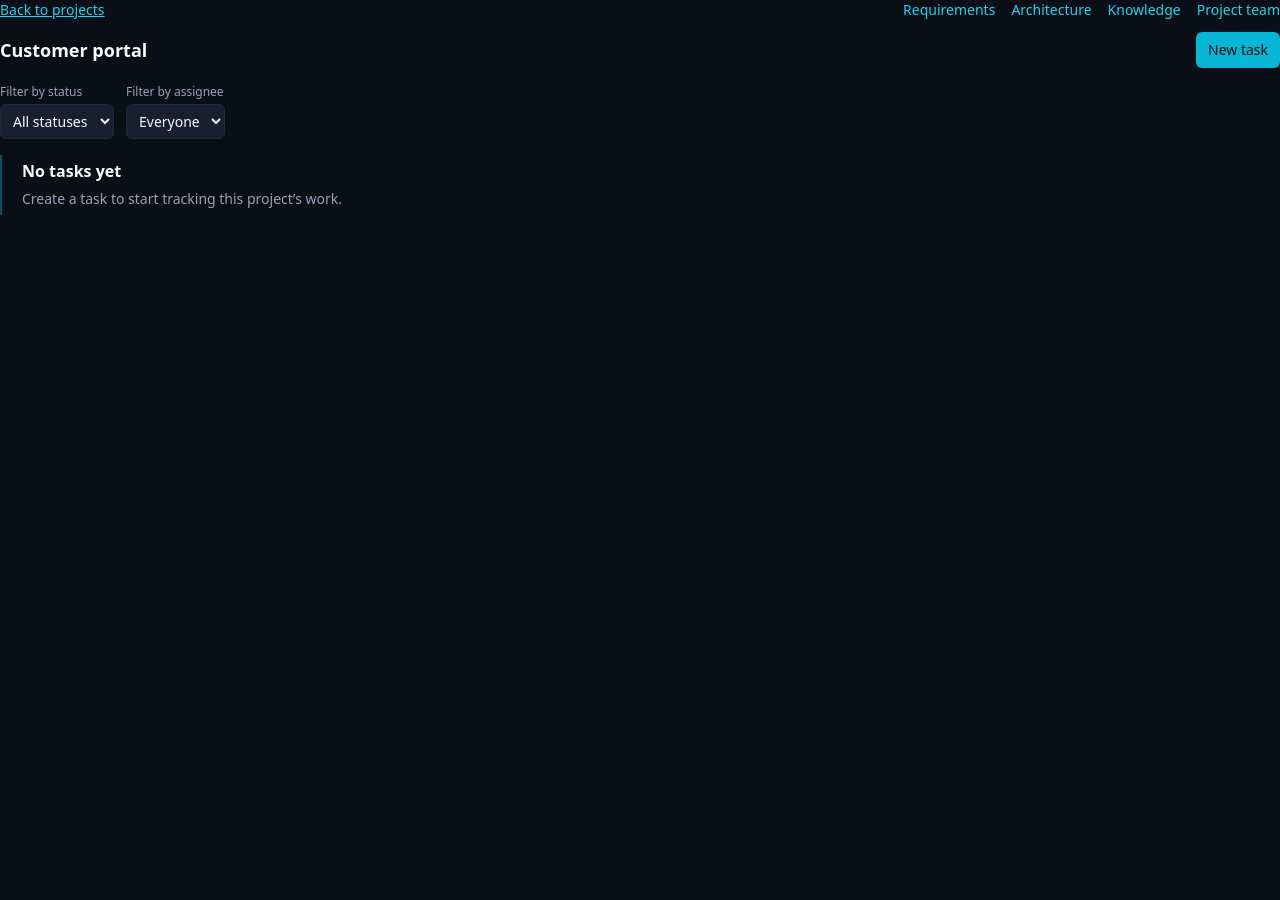
task review flow › requires a responsible role on a new task
Click the button "New task" at (1238, 50), box [1196,32,1279,68]
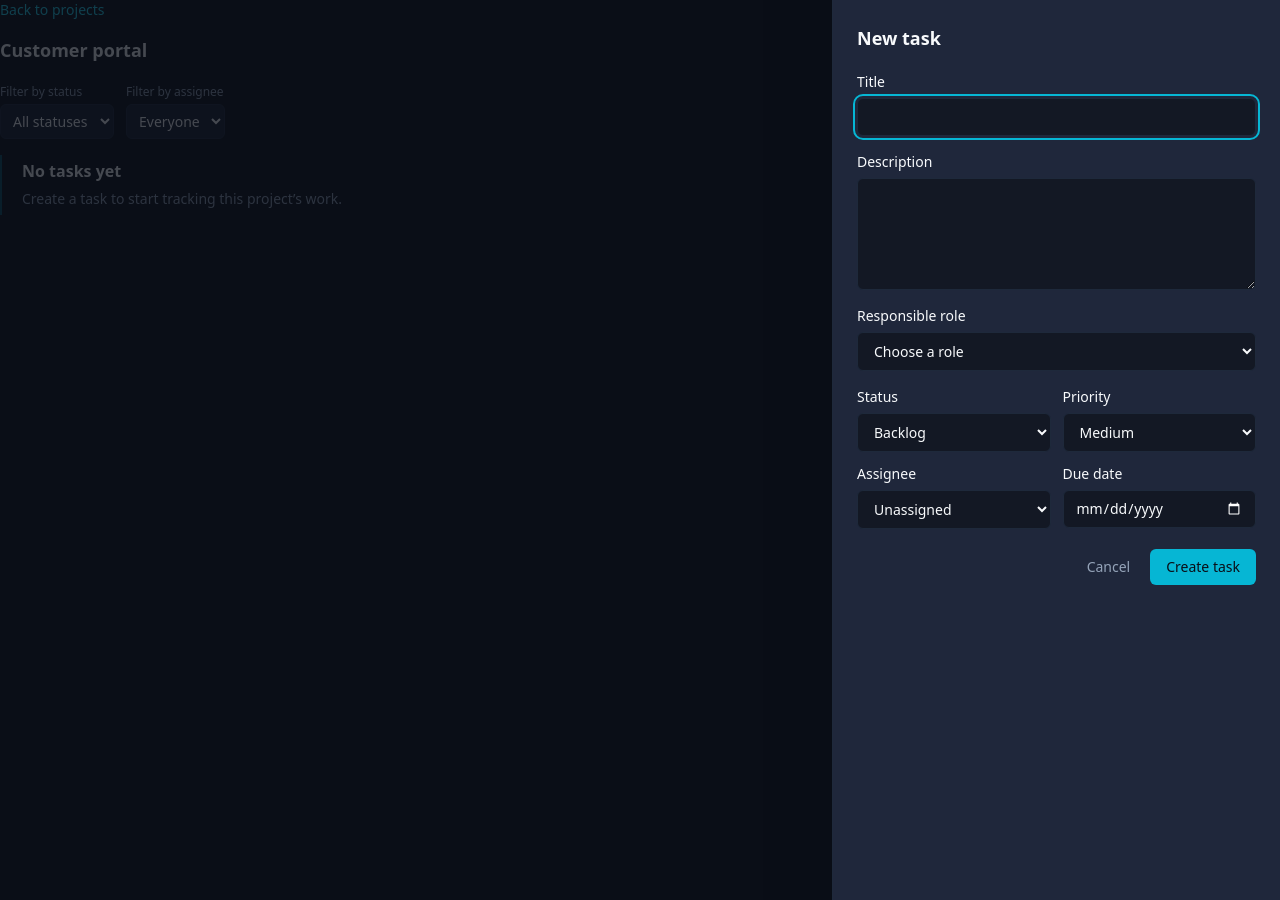
Type "Ship it" into the field labelled "Title" at (1056, 117), box [857,98,1256,136]
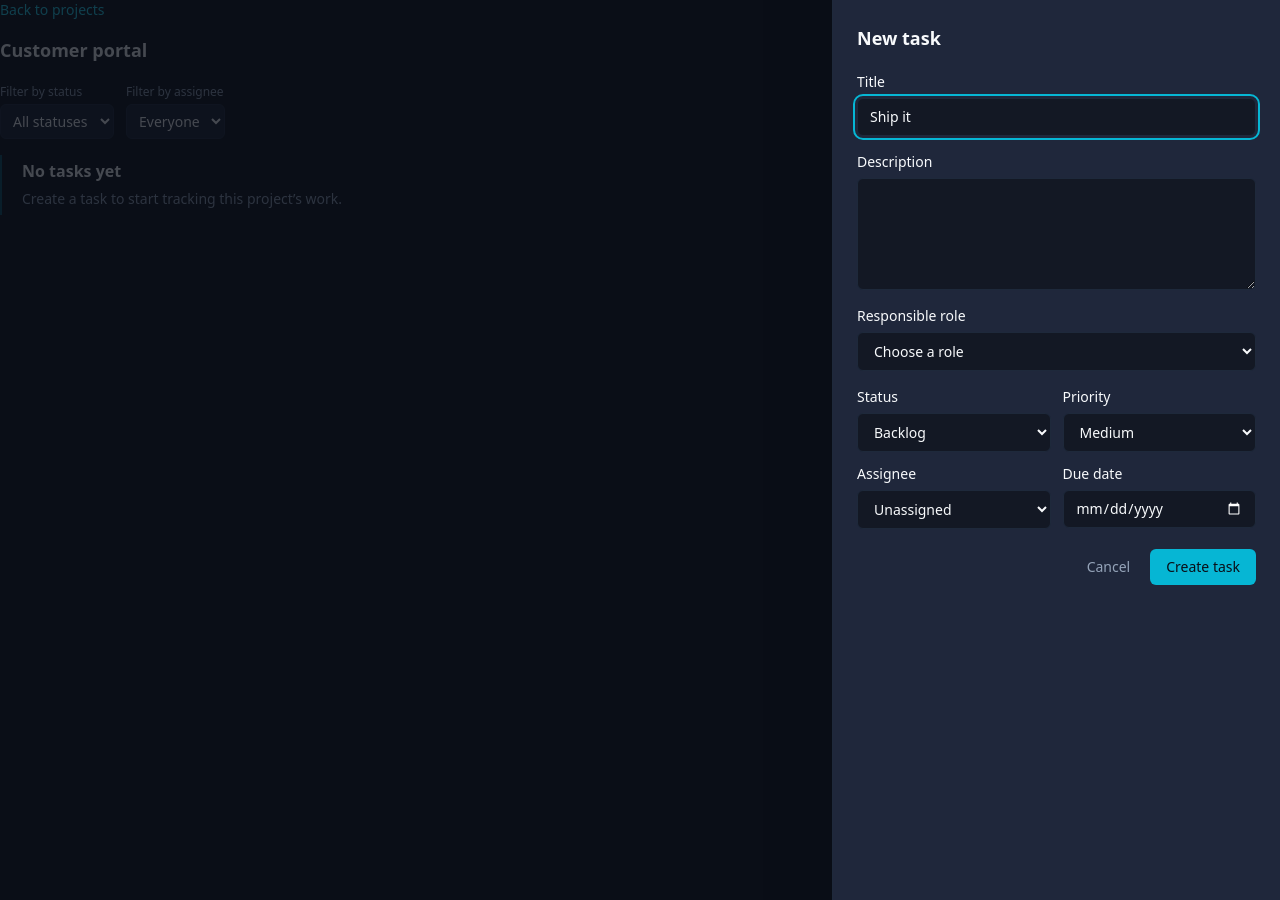
Click the button "Create task" at (1203, 567), box [1150,549,1256,585]
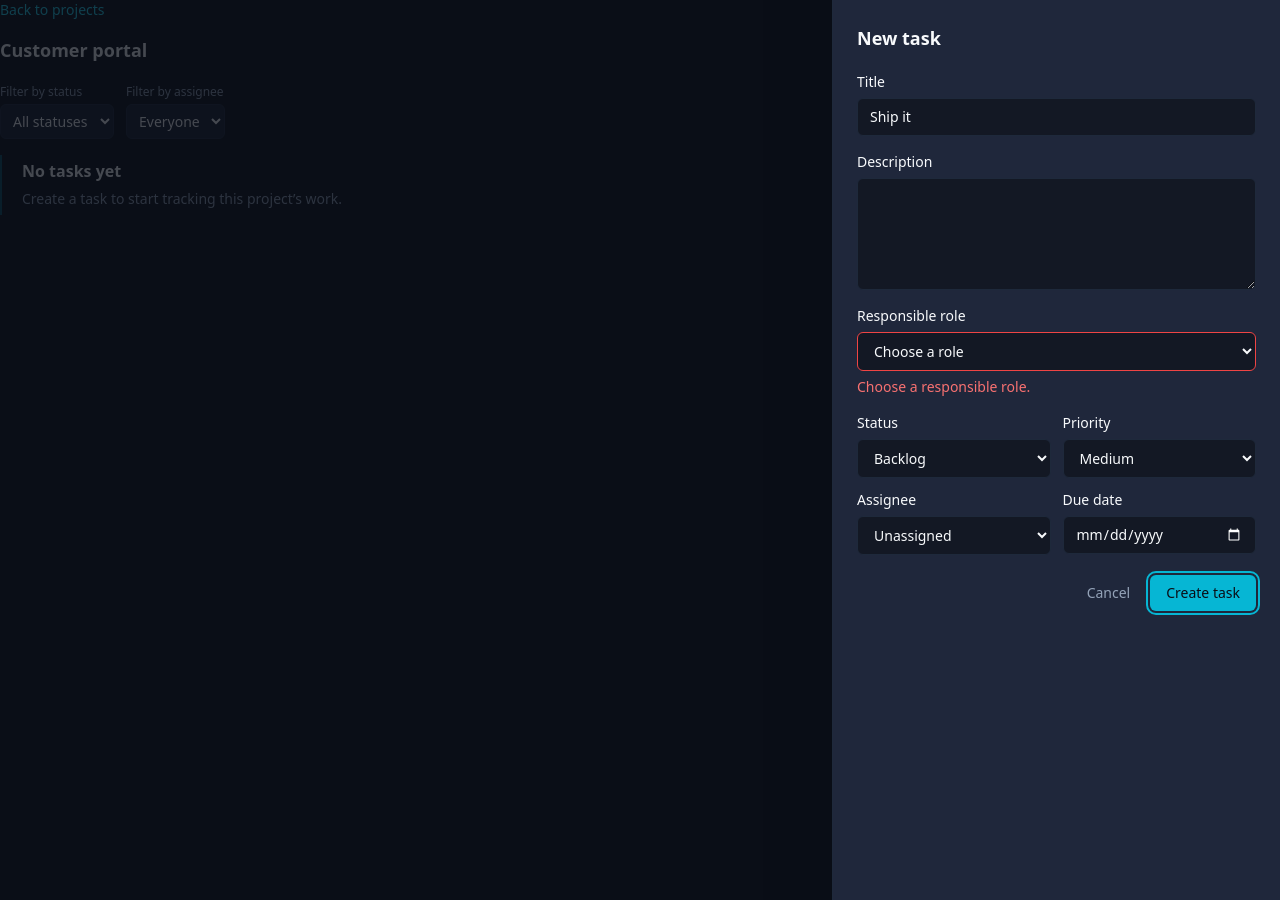
Select "Backend" in the dropdown labelled "Responsible role" at (1056, 352), box [857,332,1256,371]
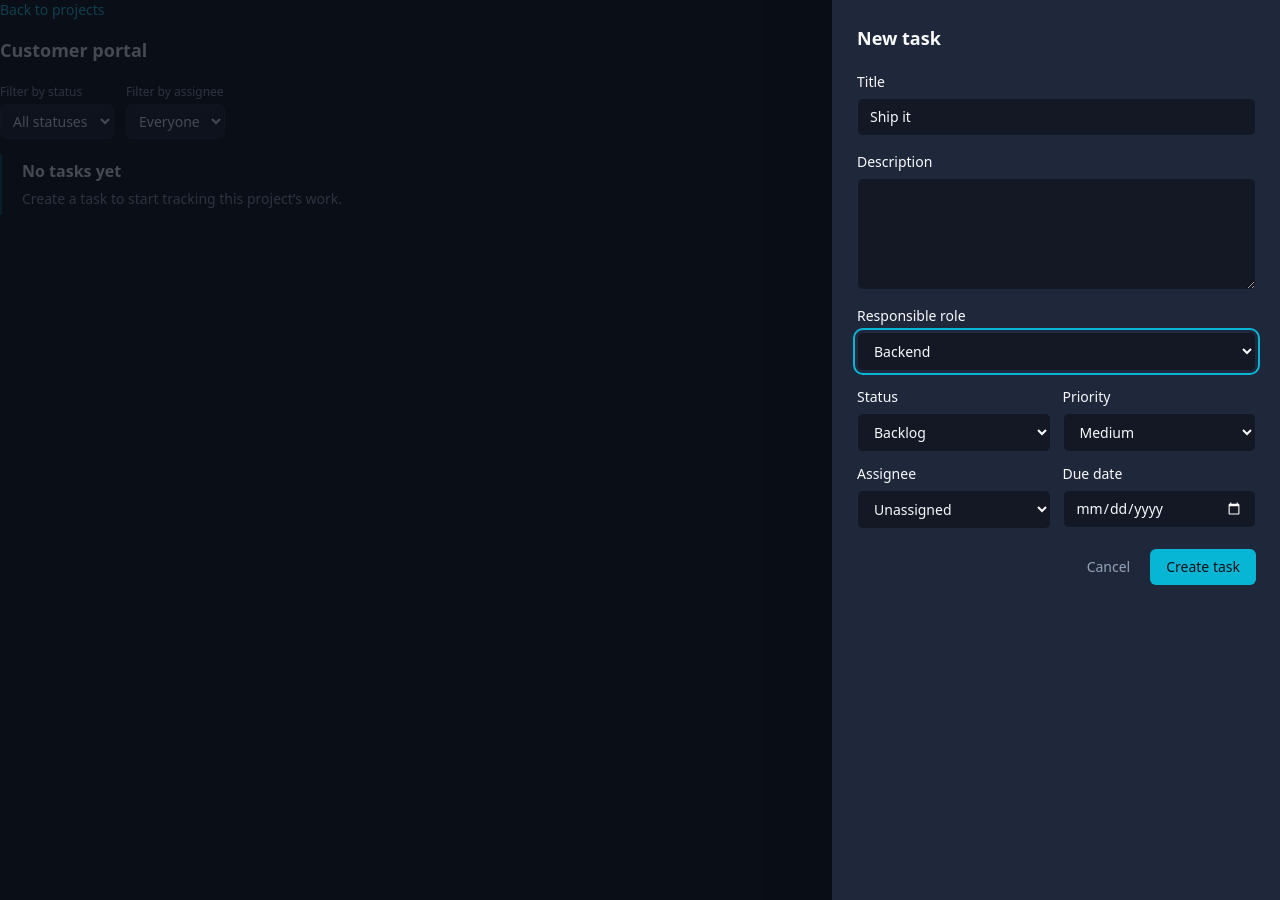
Click the button "Create task" at (1203, 567), box [1150,549,1256,585]
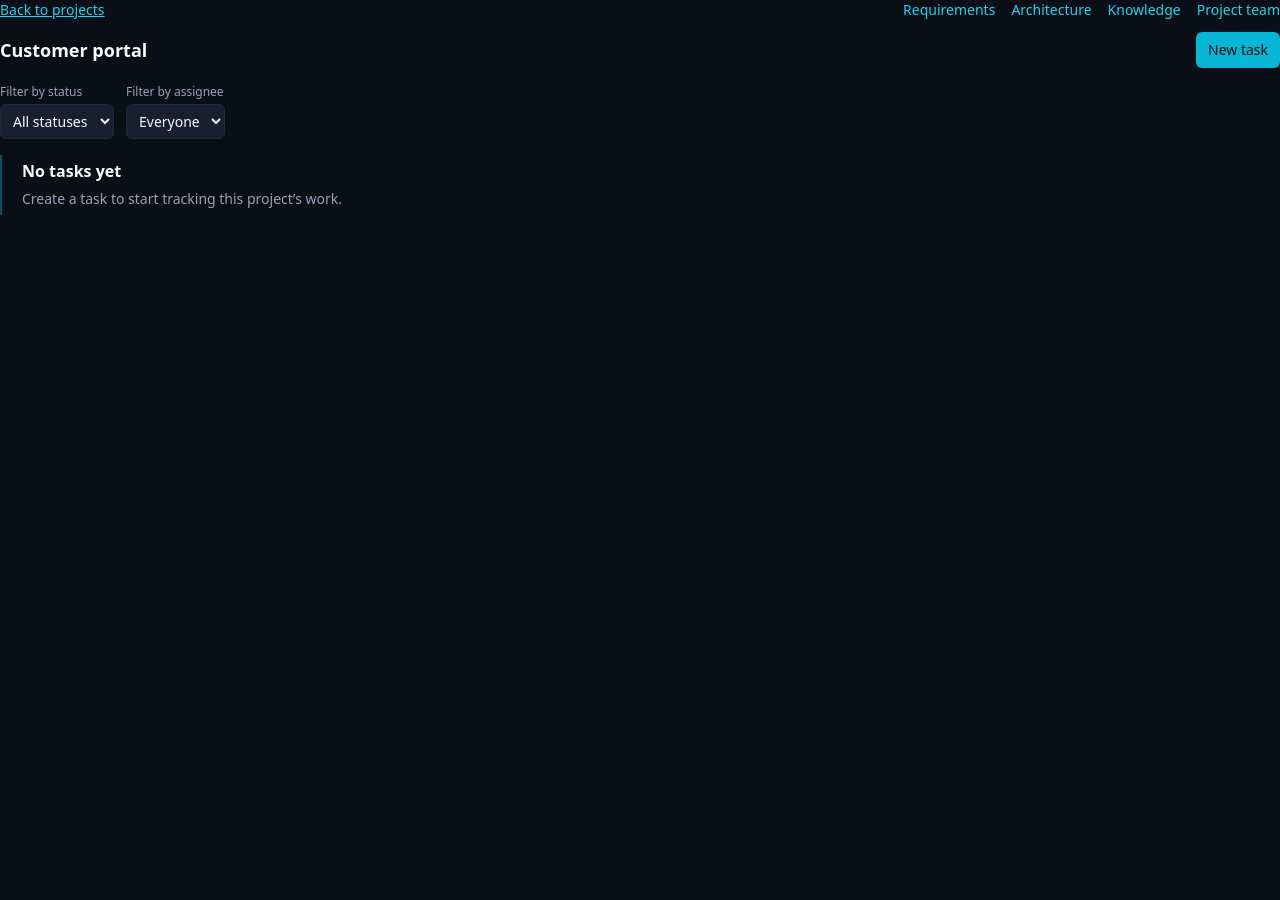
Expected: the dialog is gone
